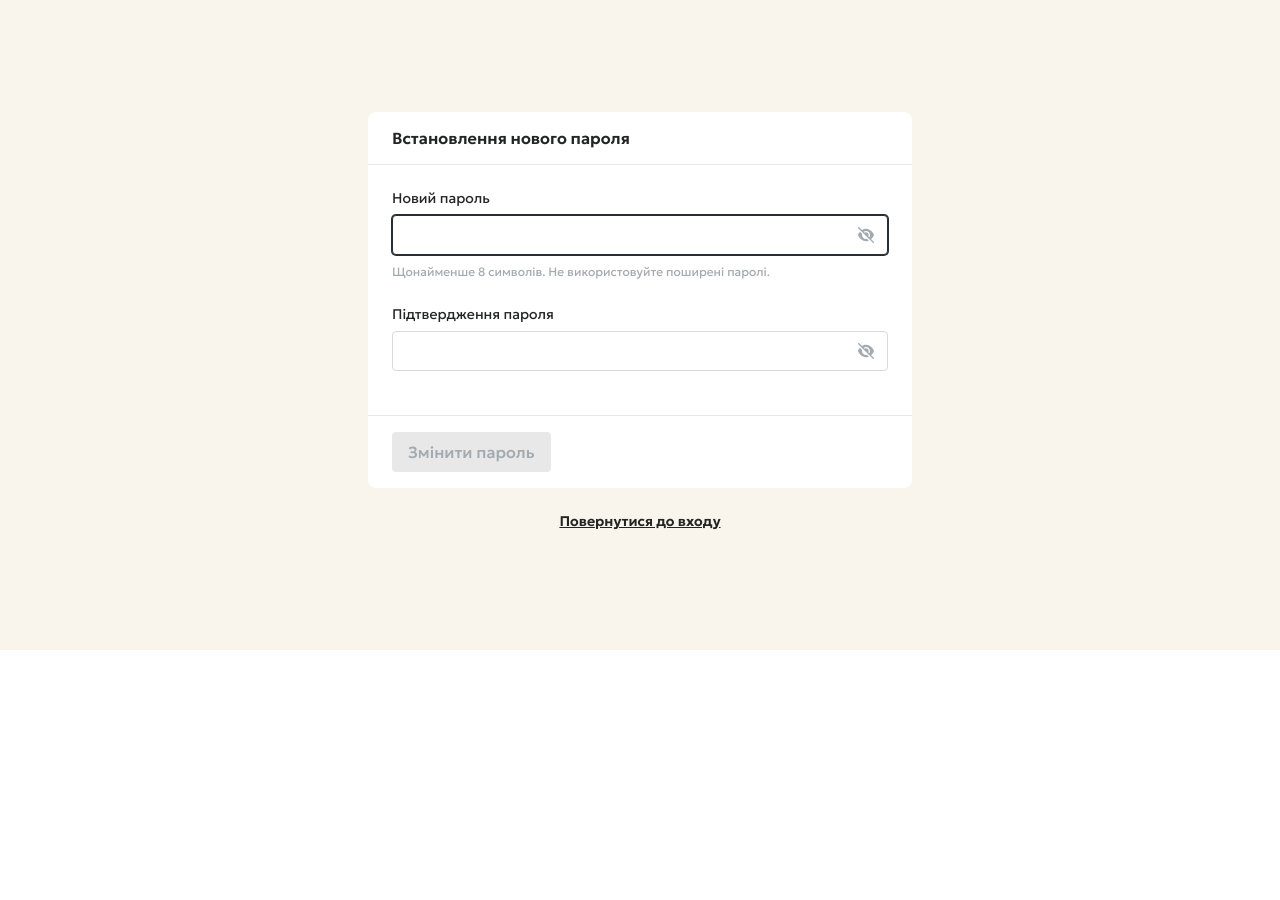
Test: RestorePassword page › disables the submit button while the request is pending
In the password field labelled "Новий пароль": (640, 235) [392,215,888,255], type "SecurePass123!"
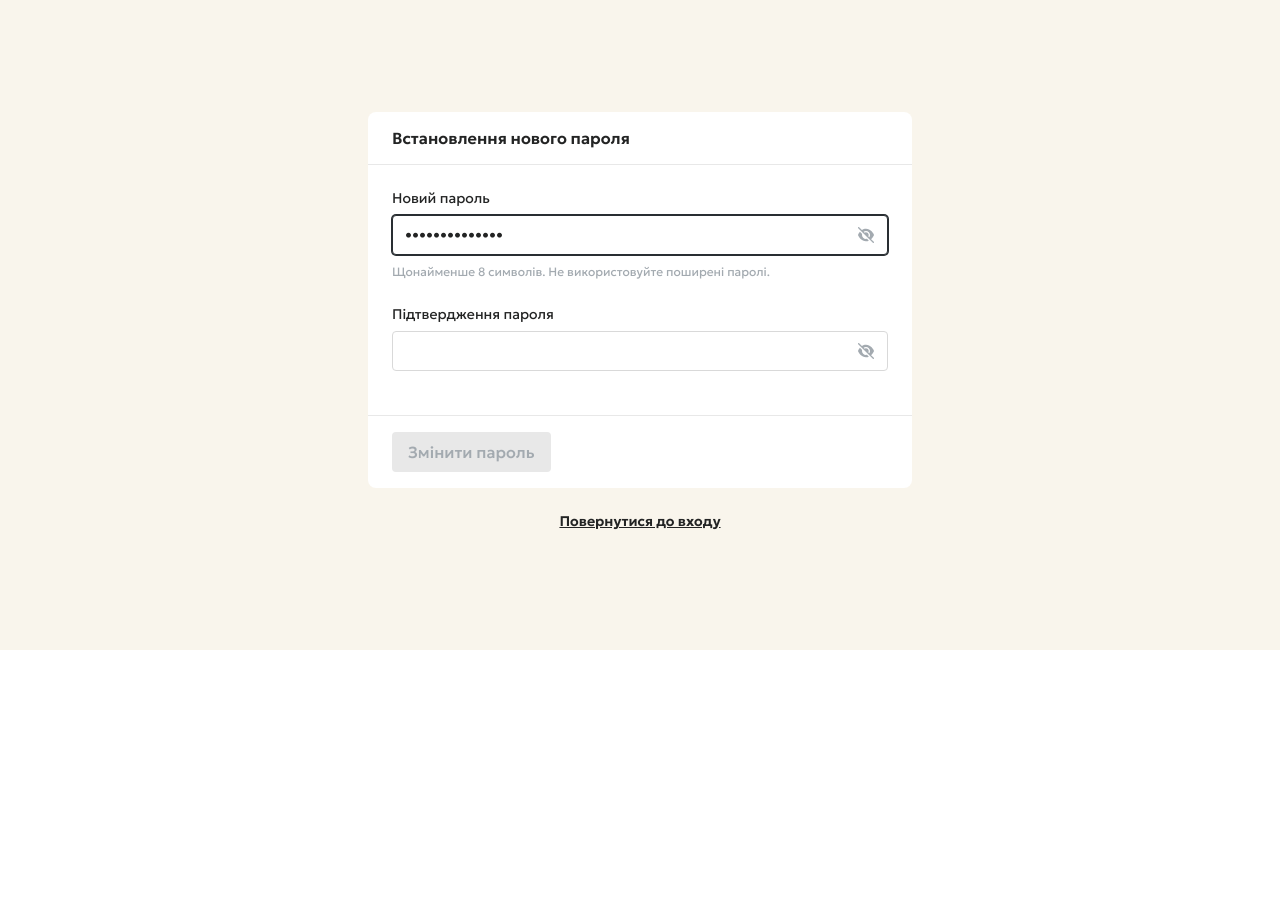
In the password field labelled "Підтвердження пароля": (640, 351) [392,331,888,371], type "SecurePass123!"
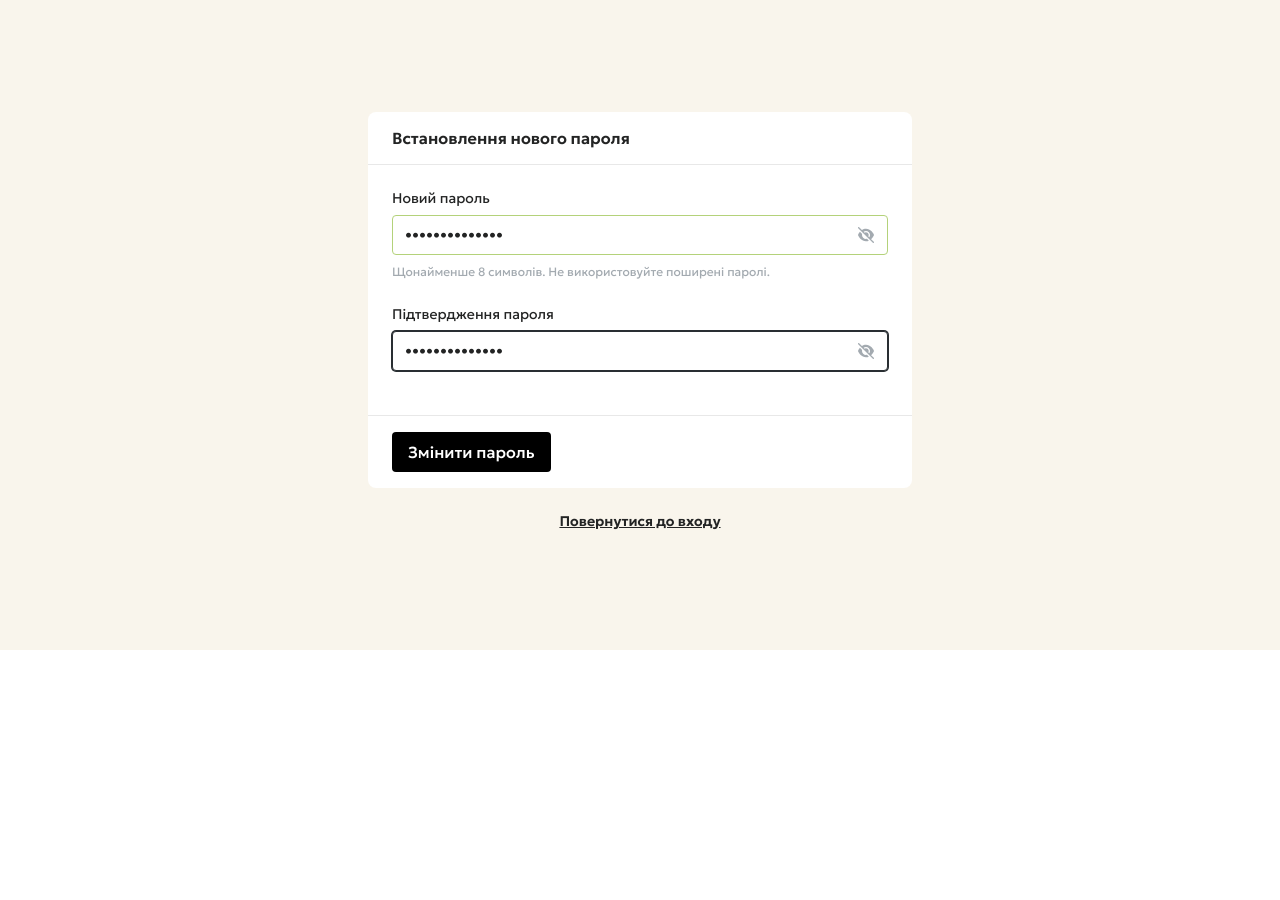
Click the button "Змінити пароль": (471, 452) [392,432,551,472]
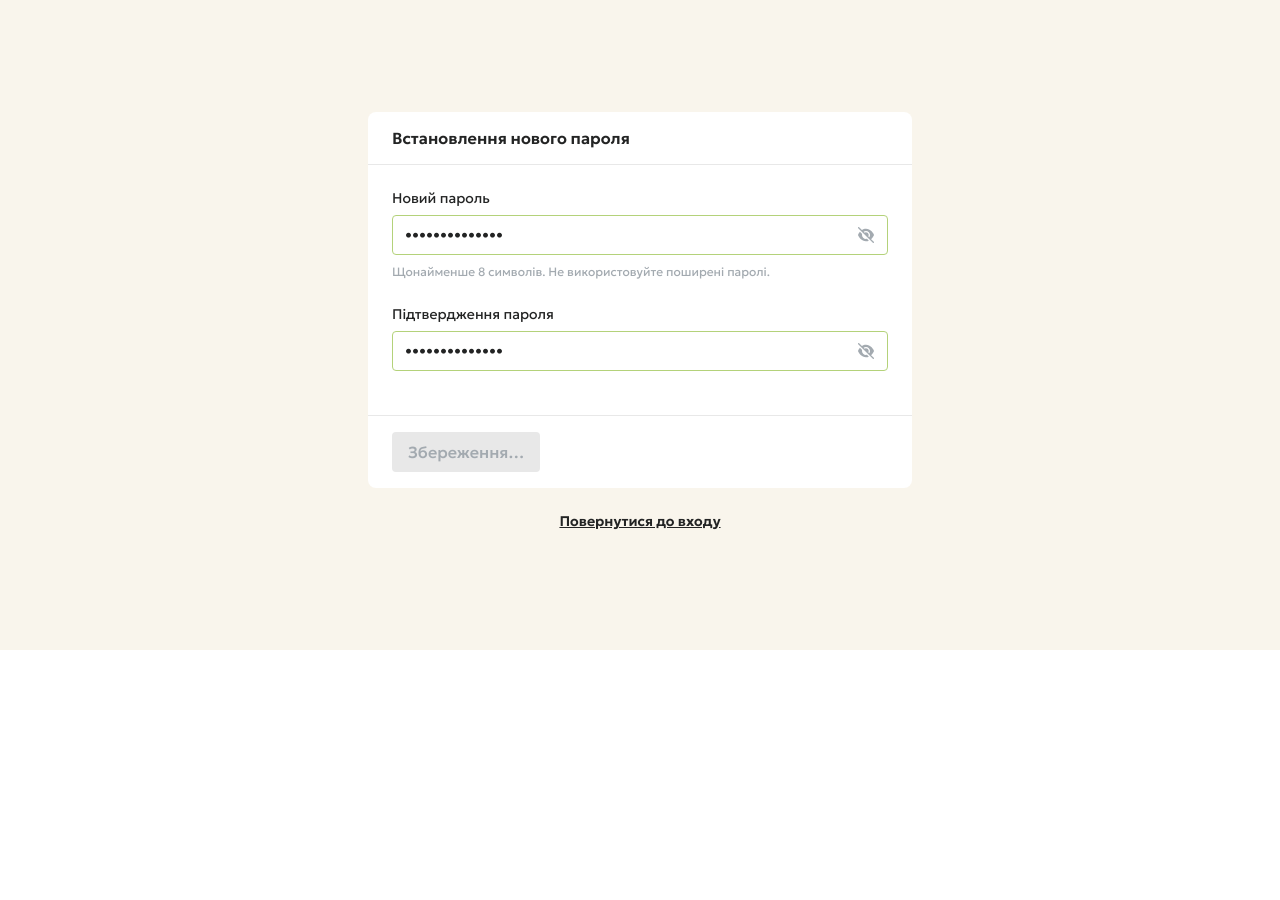
Now the button "Збереження…" is disabled, box [392,432,540,472]
